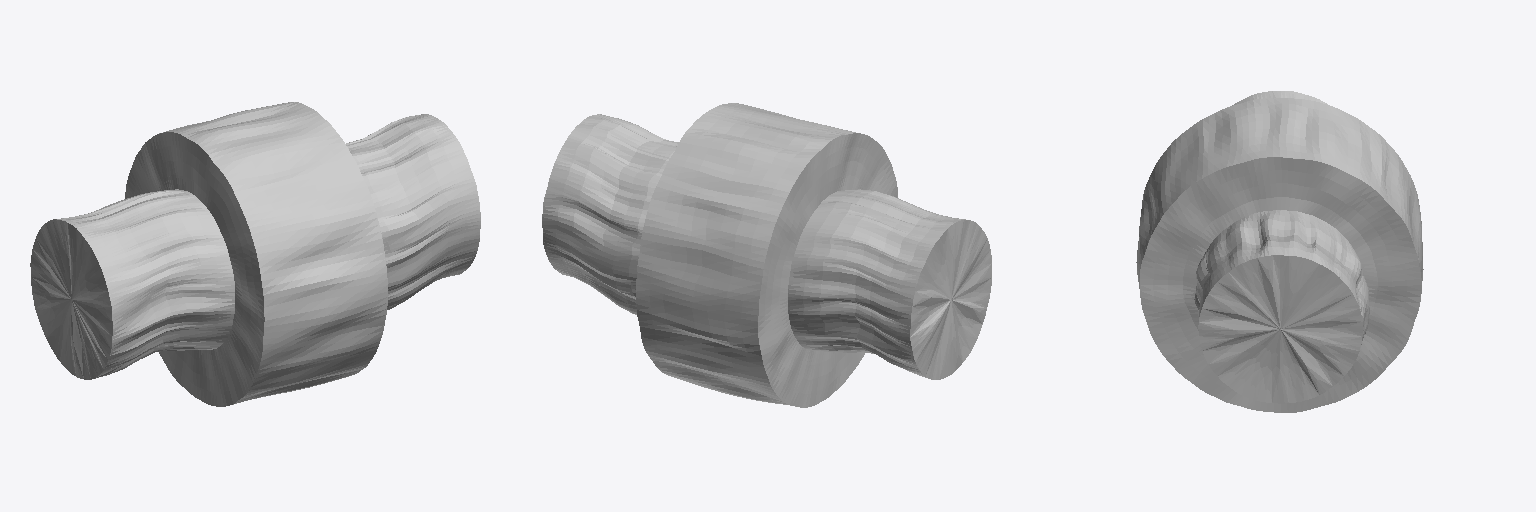
Rendered from reel.obj.
The picture shows the model from 3 angles: view 1: azimuth 30°, elevation 25°; view 2: azimuth 150°, elevation 25°; view 3: azimuth 270°, elevation 25°; orthographic projection.
Parts seen in each view (by area): view 1: reel; view 2: reel; view 3: reel.
Boxes of the visible parts, box(x1,y1,x2,y2) form: reel: box(30, 102, 480, 406); reel: box(542, 103, 991, 407); reel: box(1136, 91, 1423, 412).
Bounding box in the file's own units: 5.21 × 3.48 × 3.48.